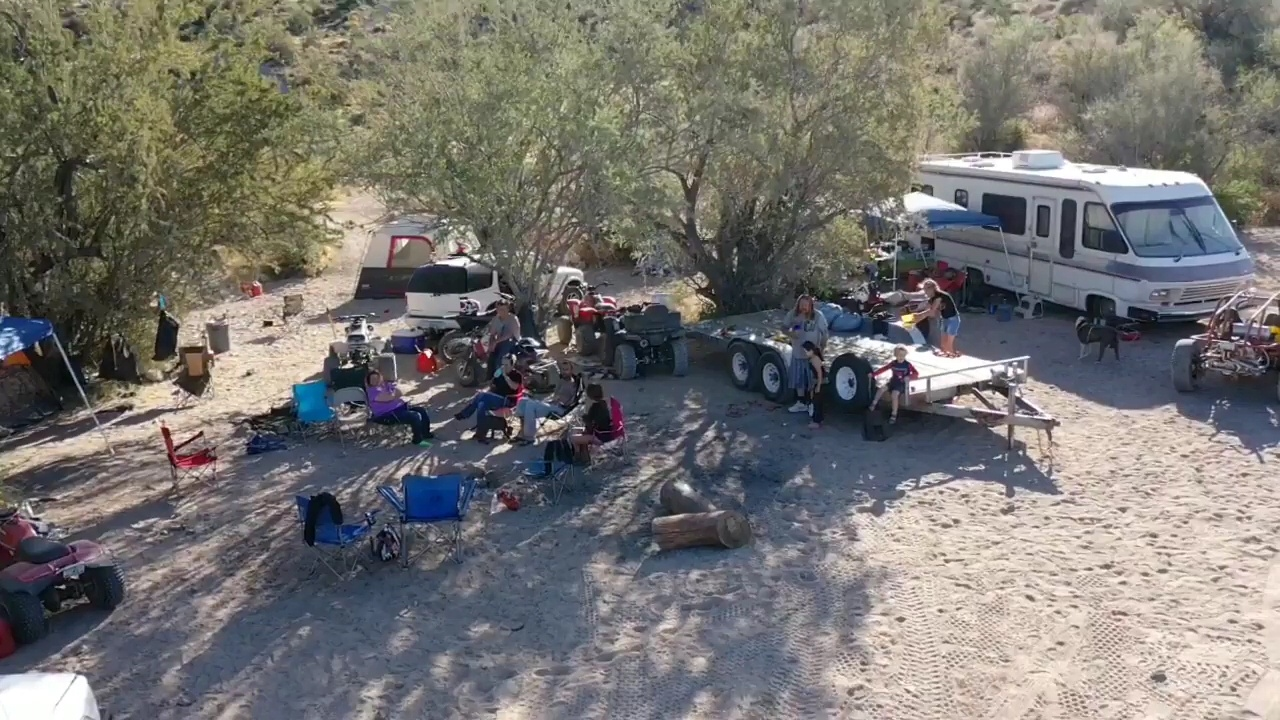araba: (404, 236, 595, 338)
insan: (779, 286, 832, 415), (455, 353, 523, 451), (364, 363, 432, 460), (567, 381, 627, 472), (907, 271, 966, 356), (469, 298, 525, 374), (865, 346, 914, 421), (804, 341, 835, 429)
otobus: (889, 134, 1263, 324)
